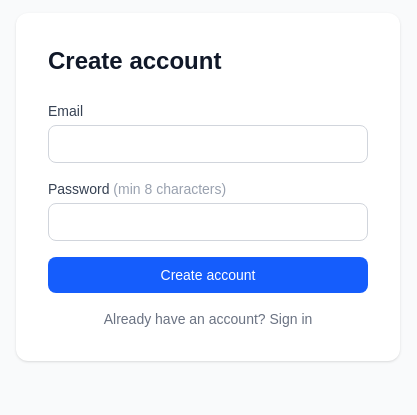
Scenario: RegisterPage › shows an error message when registration fails
Type "existing@example.com" into the field with test id "register-form-email-input" at {"x": 208, "y": 144}, box [48, 125, 368, 163]
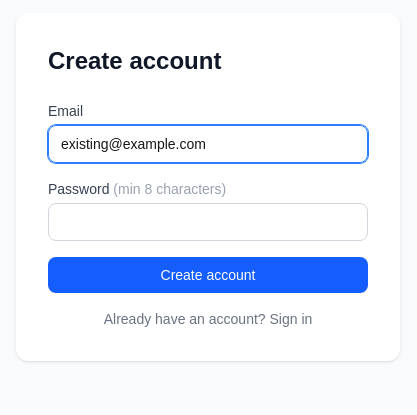
Type "anypassword" into the password field with test id "register-form-password-input" at {"x": 208, "y": 222}, box [48, 203, 368, 241]
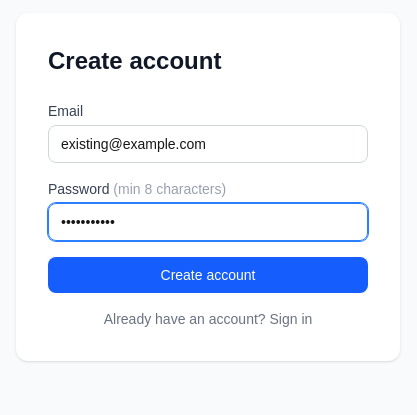
Click the button with test id "register-form-submit-btn" at {"x": 208, "y": 275}, box [48, 257, 368, 293]
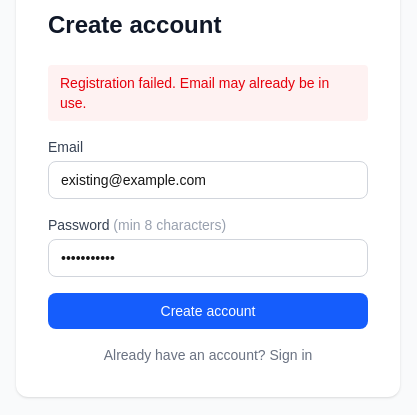
expect the text "Registration failed. Email may already be in use." is shown: met, box [48, 65, 368, 121]
